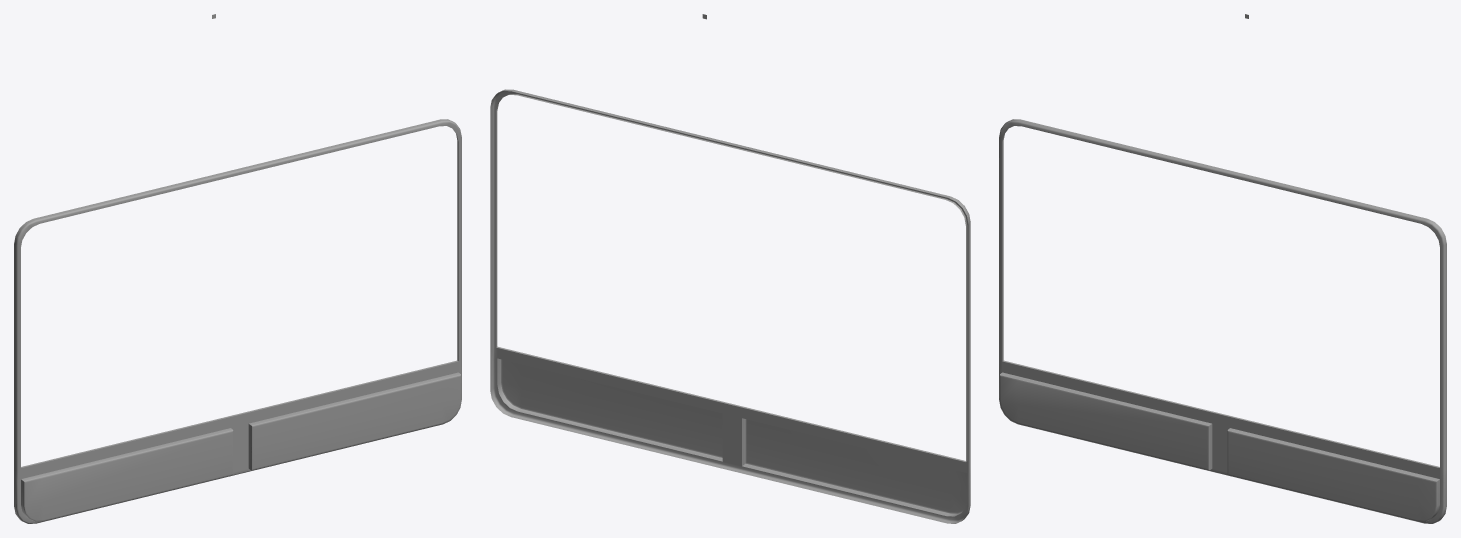
The model's file is MainMeshLaptop_6_1_GeomSubset_1.obj.
3 views of the same model, side by side, from view 1: azimuth 30°, elevation 25°; view 2: azimuth 150°, elevation 25°; view 3: azimuth 330°, elevation 25° (orthographic). The views are drawn at different scales.
Parts seen in each view (by area): view 1: MainMeshLaptop_6_1_GeomSubset_1; view 2: MainMeshLaptop_6_1_GeomSubset_1; view 3: MainMeshLaptop_6_1_GeomSubset_1.
Boxes of the visible parts, x1,y1,x2,y2 form: MainMeshLaptop_6_1_GeomSubset_1: [14, 14, 461, 523]; MainMeshLaptop_6_1_GeomSubset_1: [490, 14, 970, 523]; MainMeshLaptop_6_1_GeomSubset_1: [999, 14, 1446, 523].
Size of the model in its own units: 0.1424 by 0.1348 by 0.0159.
Materials: 1 (1 with a texture image).
